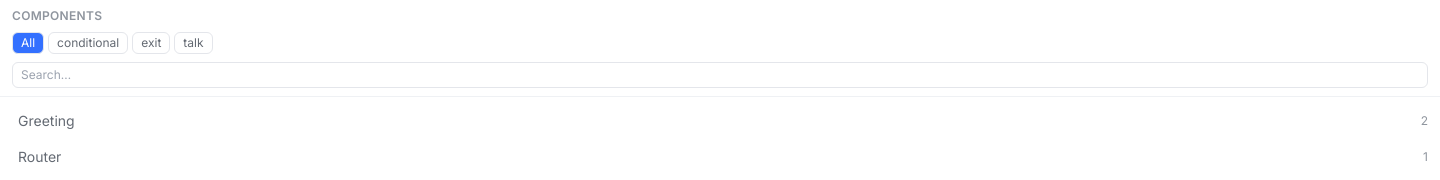
Scenario: ComponentsRail filters › searches by component name
This screenshot has width=1440, height=180.
Type "greet" into the field with test id "component-search". click: (720, 75)
box: 12,62 -> 1428,88
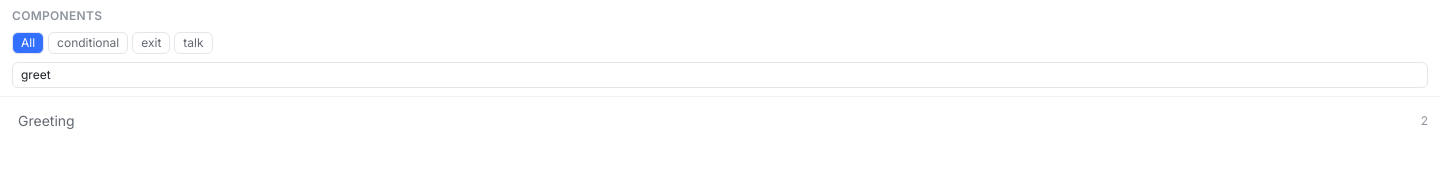
Expected: the text "Greeting" is shown, 18,112 -> 75,129
Result: the button "Router" is gone
